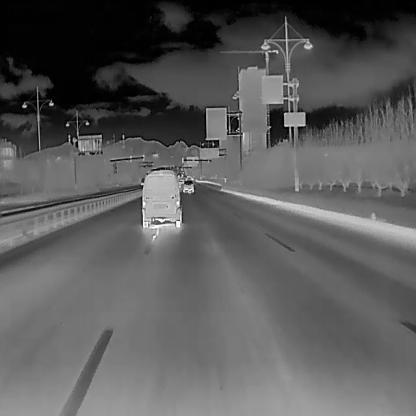car: (141, 168, 182, 228), (181, 181, 192, 193)
